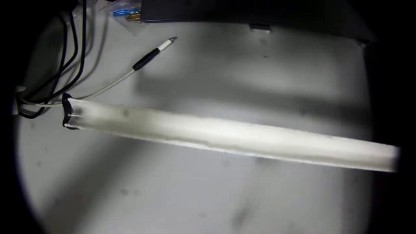gangzhu: (66, 107, 83, 122)
